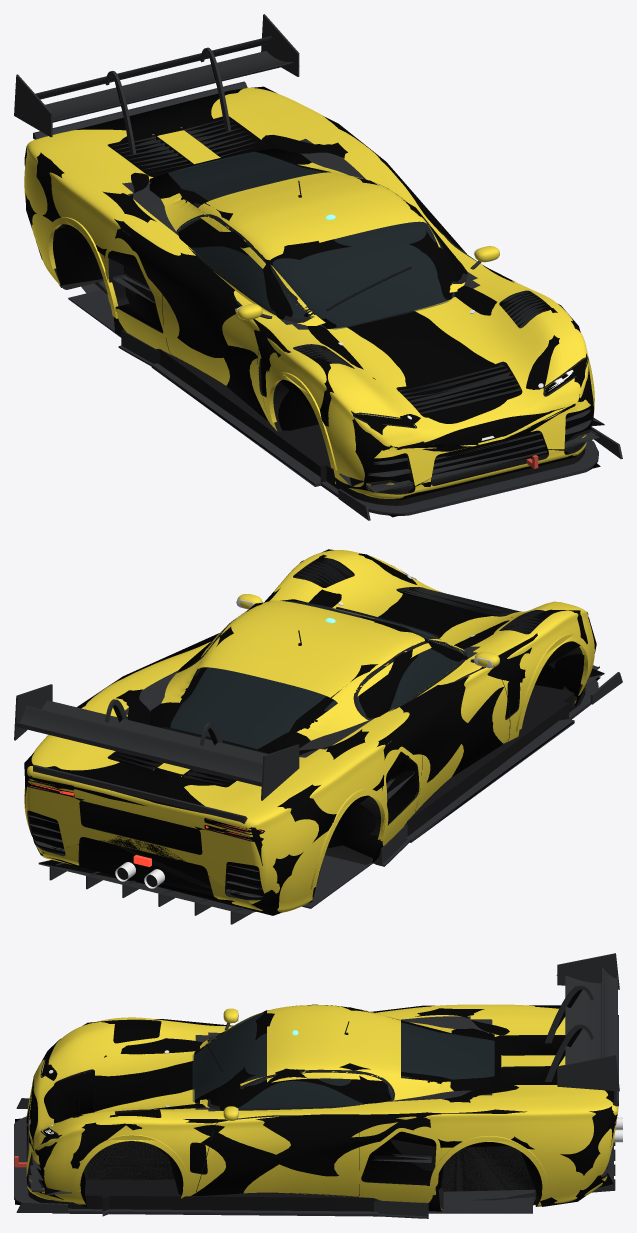
File: corvette.glb
3 views of the same model, one above another, from view 1: azimuth 30°, elevation 25°; view 2: azimuth 150°, elevation 25°; view 3: azimuth 270°, elevation 25° (orthographic). The views are drawn at different scales.
Visible parts, largest first — view 1: Shadow, Body, Carbon, Cabin, Paint, Grille, Trim; view 2: Shadow, Body, Carbon, Paint, Cabin, Grille, Trim, Chrome; view 3: Shadow, Body, Carbon, Paint, Cabin, Grille, Trim.
Part boxes in pixels (x1,y1,x2,y2): Shadow: (24,44,603,517); Body: (24,87,594,498); Carbon: (14,14,622,520); Cabin: (168,152,459,329); Paint: (46,162,499,470); Grille: (156,180,585,505); Trim: (162,178,588,428); Shadow: (24,549,603,915); Body: (24,550,594,912); Carbon: (14,558,622,924); Paint: (161,594,590,889); Cabin: (158,600,462,753); Grille: (298,607,585,836); Trim: (176,565,588,812); Chrome: (115,575,492,888); Shadow: (15,975,618,1213); Body: (26,1004,618,1209); Carbon: (14,953,619,1218); Paint: (74,1005,547,1195); Cabin: (192,1012,494,1108); Grille: (28,1021,380,1211); Trim: (40,1005,394,1196).
Bounding box in the file's own units: 2.13 × 1.37 × 4.74.
